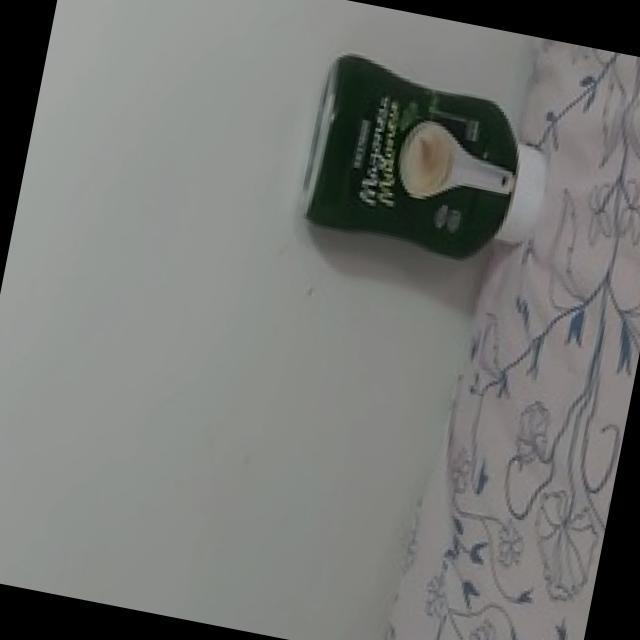good: (290, 32, 574, 268)
